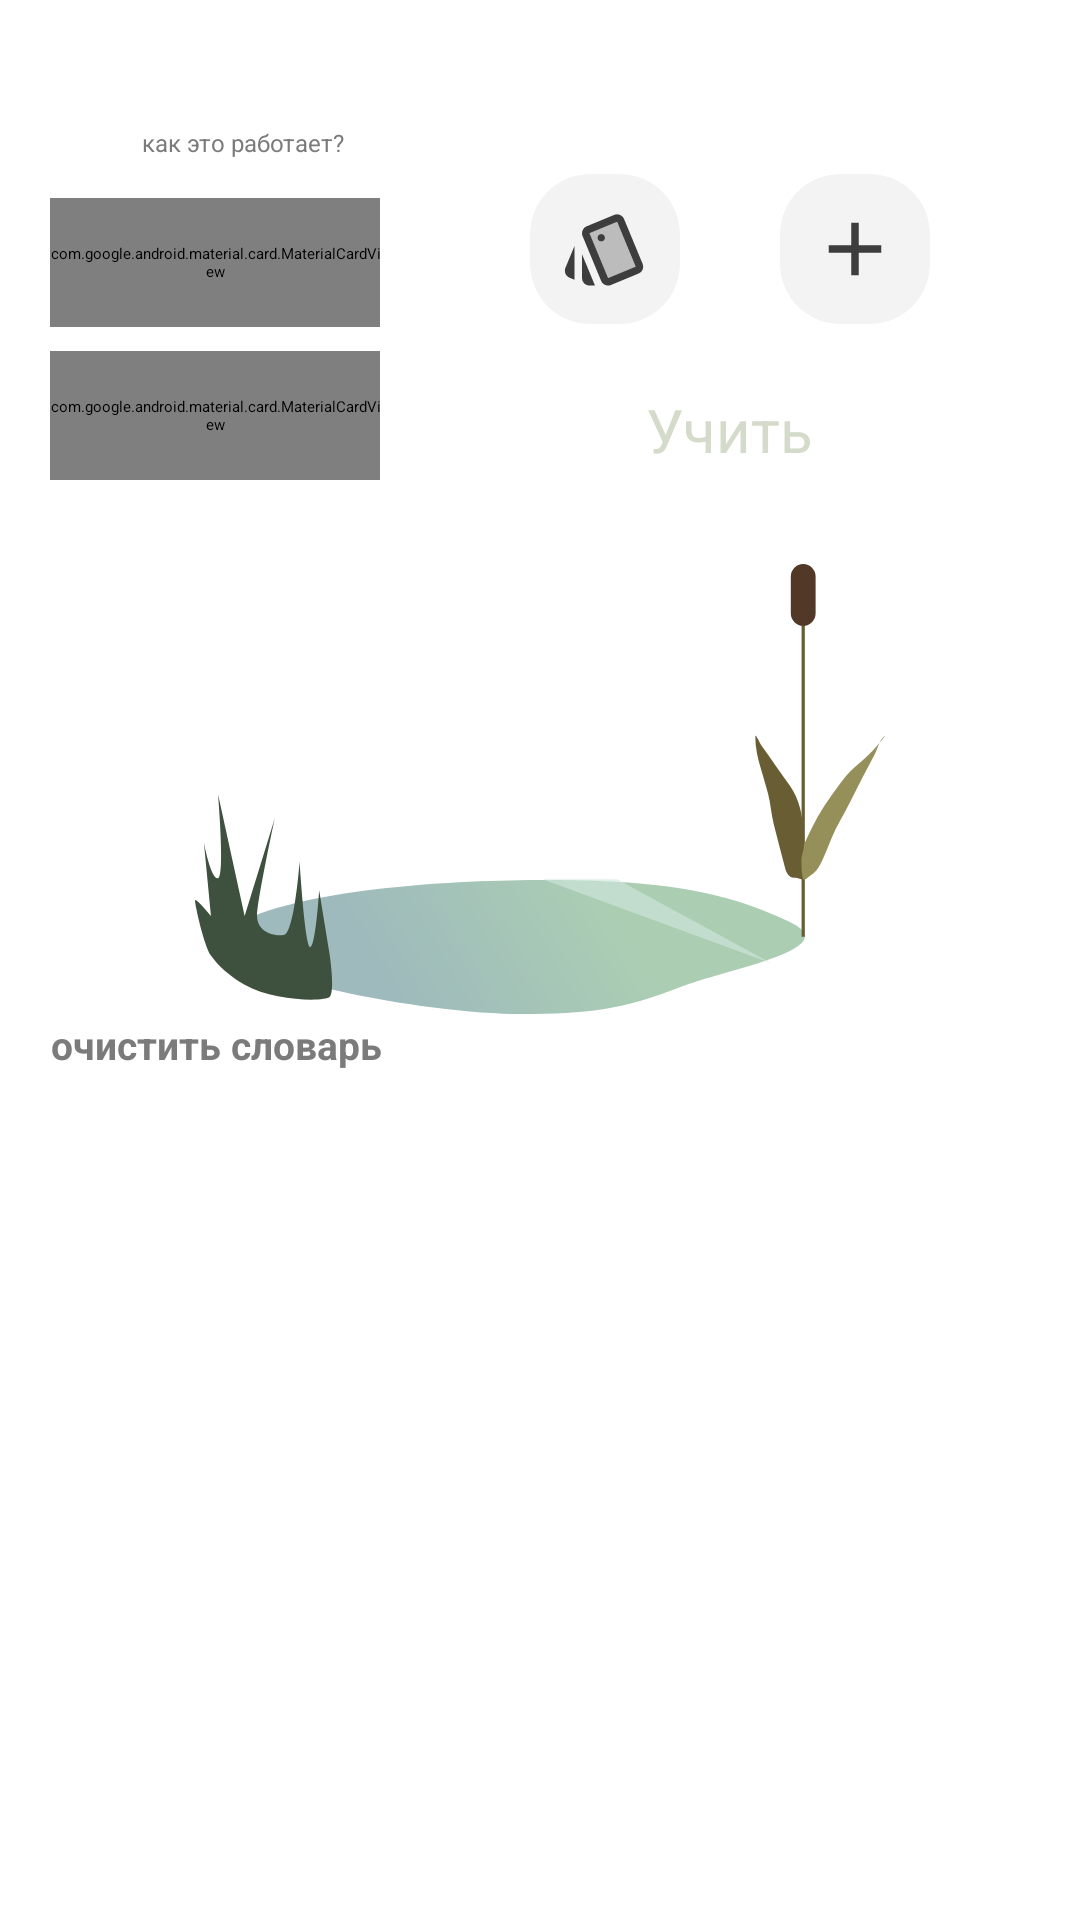

Where to tap for icons on this 1080px x 1920px app screen, as point (x, y):
plus add more: point (855, 249)
style: point (604, 250)
